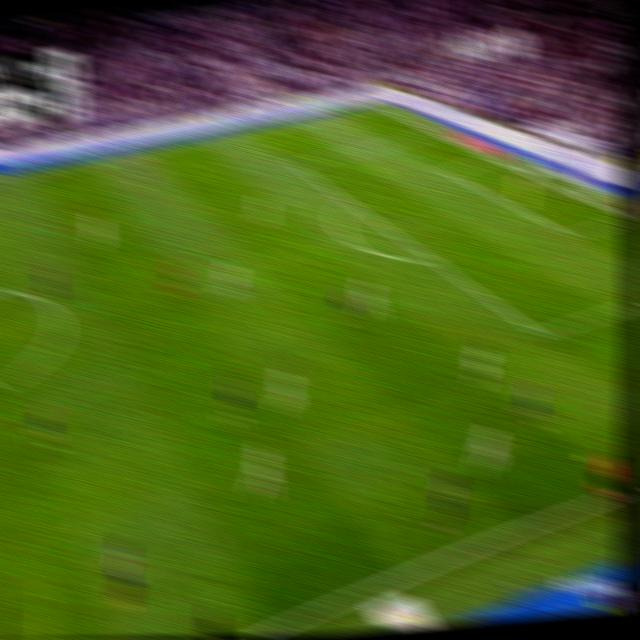bigarea_bottom_inner: (527, 318, 552, 346)
bigarea_top_inner: (286, 154, 305, 173)
bigarea_top_outter: (422, 124, 442, 139)
bottom_arc_area_intersection: (420, 249, 443, 270)
corner: (364, 99, 384, 112)
smallarea_bottom_inner: (560, 224, 580, 245)
smallarea_top_inner: (436, 163, 455, 179)
top_arc_area_intersection: (339, 193, 359, 211)
